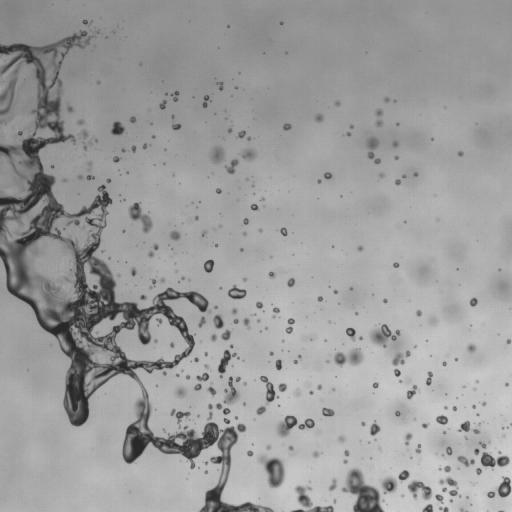droplet: (341, 468, 384, 511), (291, 485, 333, 511), (258, 455, 285, 487), (369, 324, 399, 347), (487, 476, 511, 498), (334, 348, 363, 366), (407, 480, 431, 499), (439, 476, 459, 496), (170, 409, 190, 424), (381, 476, 397, 494), (228, 285, 246, 299), (392, 351, 410, 365), (210, 146, 224, 163), (111, 121, 124, 135), (225, 159, 238, 173), (240, 149, 256, 160), (213, 314, 223, 328), (370, 421, 380, 435), (398, 470, 409, 482), (204, 259, 214, 272), (346, 327, 356, 340), (458, 421, 470, 431), (175, 387, 186, 397), (322, 407, 334, 416), (436, 415, 447, 424), (170, 231, 180, 240), (428, 315, 437, 325), (221, 330, 230, 340), (328, 479, 336, 490), (405, 433, 412, 445), (243, 318, 250, 329), (439, 465, 450, 472), (422, 504, 433, 511), (79, 130, 88, 138), (279, 227, 287, 236), (256, 406, 265, 414), (172, 91, 179, 101), (315, 114, 323, 122), (467, 344, 475, 352), (278, 383, 286, 391), (435, 494, 443, 502), (159, 100, 166, 109), (287, 278, 294, 287), (470, 297, 477, 306), (198, 317, 205, 326), (208, 386, 215, 395), (275, 360, 281, 370), (283, 123, 291, 130), (238, 130, 245, 138), (324, 172, 332, 179), (172, 124, 180, 130), (479, 442, 487, 448), (446, 447, 452, 455), (439, 506, 448, 511), (217, 82, 223, 89), (376, 109, 382, 116), (113, 156, 120, 162), (251, 204, 258, 210), (269, 271, 275, 278), (256, 301, 262, 308), (394, 369, 400, 376), (294, 389, 300, 396), (338, 436, 345, 442), (312, 451, 319, 457), (415, 445, 420, 453), (67, 106, 73, 112), (129, 116, 135, 122), (376, 120, 382, 126), (273, 307, 279, 313), (231, 308, 237, 314), (156, 318, 162, 324), (224, 418, 230, 424), (247, 450, 253, 456), (77, 119, 84, 124), (131, 268, 136, 275), (211, 334, 216, 341), (392, 141, 397, 147), (395, 179, 400, 185), (243, 218, 248, 224), (358, 245, 363, 251), (148, 251, 153, 257), (393, 262, 399, 267), (140, 294, 146, 299), (317, 296, 323, 301), (416, 310, 421, 316), (373, 382, 378, 388), (422, 423, 428, 428), (344, 450, 349, 456), (476, 468, 481, 474), (216, 188, 221, 193), (153, 244, 158, 249), (395, 411, 400, 416), (288, 446, 293, 451), (474, 449, 479, 454), (83, 20, 89, 24), (131, 146, 135, 152), (87, 175, 93, 179), (473, 429, 479, 433), (335, 101, 339, 106), (17, 131, 22, 135), (143, 144, 147, 149), (458, 151, 462, 156), (233, 319, 238, 323), (506, 339, 511, 343), (204, 364, 209, 368), (317, 384, 321, 389), (266, 445, 271, 449), (380, 173, 384, 177), (78, 175, 82, 179), (106, 178, 110, 182), (317, 179, 321, 183), (160, 278, 164, 282), (170, 343, 174, 347), (269, 351, 273, 355), (194, 357, 198, 361), (442, 361, 446, 365), (236, 377, 240, 381), (452, 406, 456, 410), (361, 422, 365, 426), (343, 459, 347, 463), (384, 98, 388, 101), (83, 145, 86, 149), (202, 231, 205, 235), (383, 299, 387, 302), (309, 337, 313, 340), (358, 336, 362, 339), (186, 375, 189, 379), (309, 391, 313, 394), (350, 125, 353, 128), (228, 129, 231, 132), (347, 132, 350, 135), (395, 156, 398, 159), (88, 162, 91, 165), (414, 173, 417, 176), (215, 244, 218, 247), (243, 278, 246, 281), (334, 290, 337, 293), (294, 360, 297, 363), (482, 402, 485, 405), (472, 405, 475, 408), (444, 406, 447, 409), (333, 499, 336, 502), (122, 149, 124, 152), (51, 165, 53, 168), (403, 174, 405, 177), (62, 179, 65, 181), (261, 198, 264, 200), (195, 217, 198, 219), (259, 229, 262, 231), (214, 306, 217, 308), (154, 340, 157, 342), (230, 345, 232, 348), (204, 353, 207, 355), (298, 355, 301, 357), (455, 358, 457, 361), (176, 374, 179, 376), (505, 383, 508, 385), (204, 462, 207, 464), (204, 471, 207, 473), (172, 115, 174, 117), (152, 135, 154, 137), (248, 137, 250, 139), (89, 141, 91, 143), (182, 277, 184, 279), (414, 345, 416, 347), (399, 380, 401, 382), (235, 417, 237, 419), (443, 431, 445, 433), (401, 494, 403, 496), (450, 499, 452, 501)
ligament: (0, 37, 273, 511), (277, 415, 314, 437), (128, 202, 152, 232), (218, 349, 238, 377), (260, 376, 277, 404), (480, 452, 509, 468), (223, 377, 239, 404), (367, 137, 380, 163), (194, 372, 209, 390), (457, 456, 474, 466), (406, 385, 418, 398), (216, 403, 230, 414), (285, 318, 294, 333), (426, 371, 433, 385), (203, 95, 209, 107), (150, 279, 156, 288), (460, 509, 467, 511), (499, 510, 503, 511)
